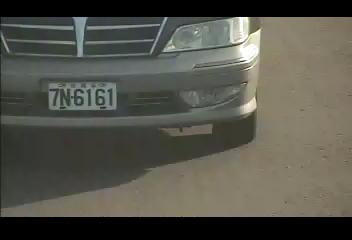plate: (48, 81, 118, 110)
